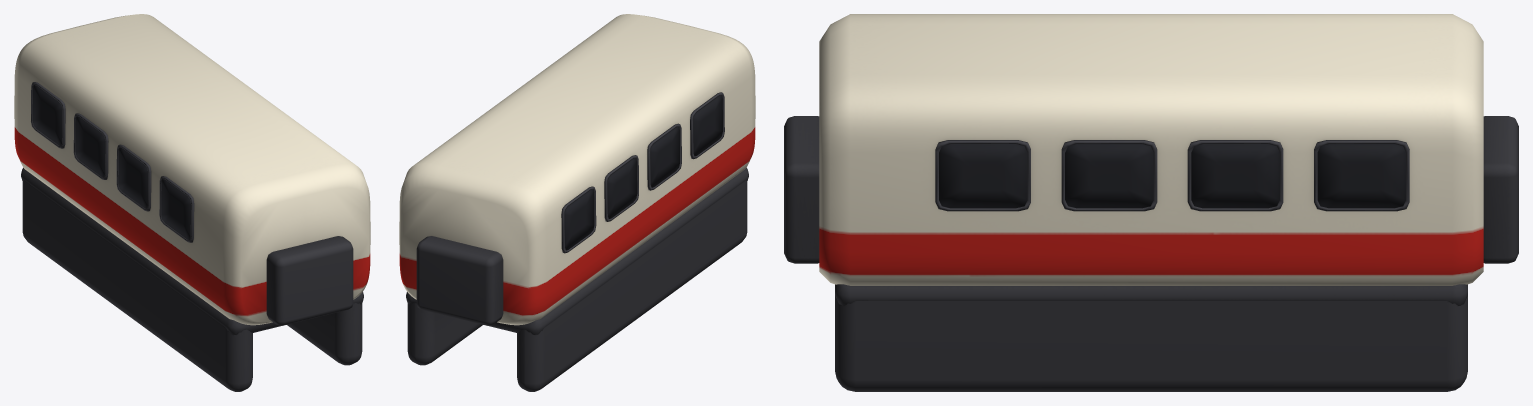
Rendered from monorail-car-middle.fbx.
3 renders of one model, left to right at view 1: azimuth 30°, elevation 25°; view 2: azimuth 150°, elevation 25°; view 3: azimuth 270°, elevation 25°, orthographic. The views are drawn at different scales.
Parts seen in each view (by area): view 1: monorail-car-middle; view 2: monorail-car-middle; view 3: monorail-car-middle.
Part boxes in pixels (box(x1,y1,x2,y2)): monorail-car-middle: box(14, 14, 370, 391); monorail-car-middle: box(399, 14, 755, 391); monorail-car-middle: box(784, 14, 1518, 391).
Bounding box in the file's own units: 1136 × 1500 × 3320.
Materials: 1 (1 with a texture image).
